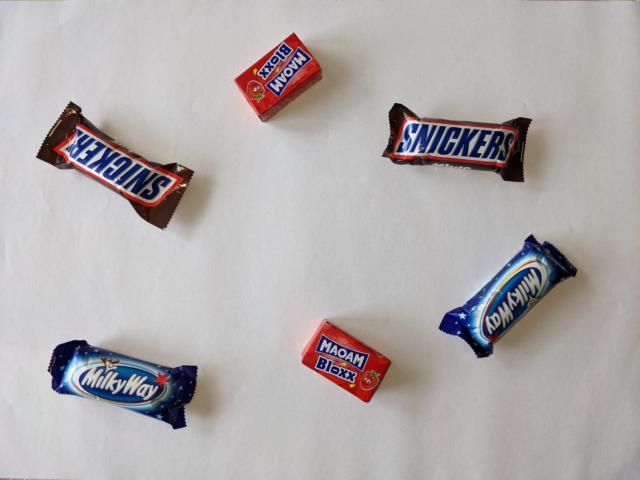MAOAM: (231, 31, 326, 125), (297, 315, 393, 405)
MilkyWay: (435, 232, 580, 361), (45, 337, 200, 431)
Snickers: (33, 98, 197, 231), (378, 101, 533, 185)
